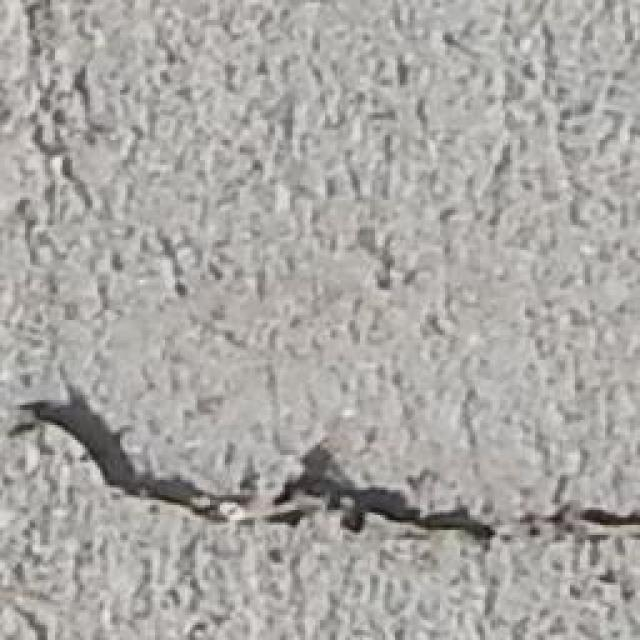concrete-crack: (1, 370, 640, 552)
